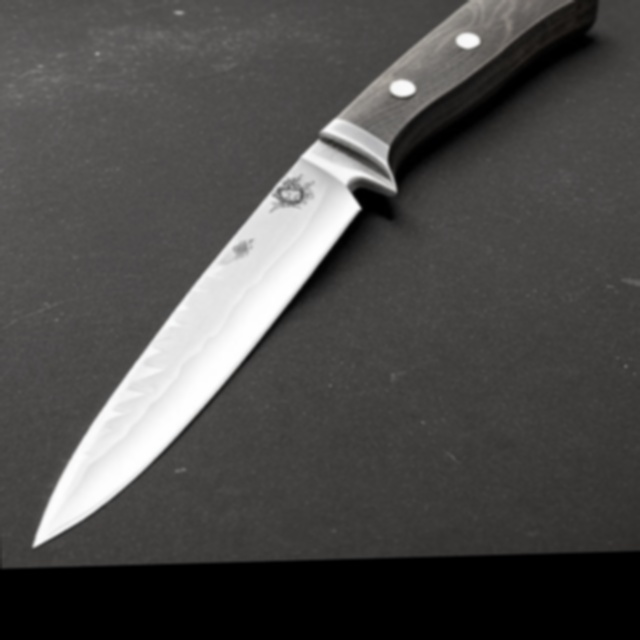Sharp-Object: (7, 0, 628, 554)
